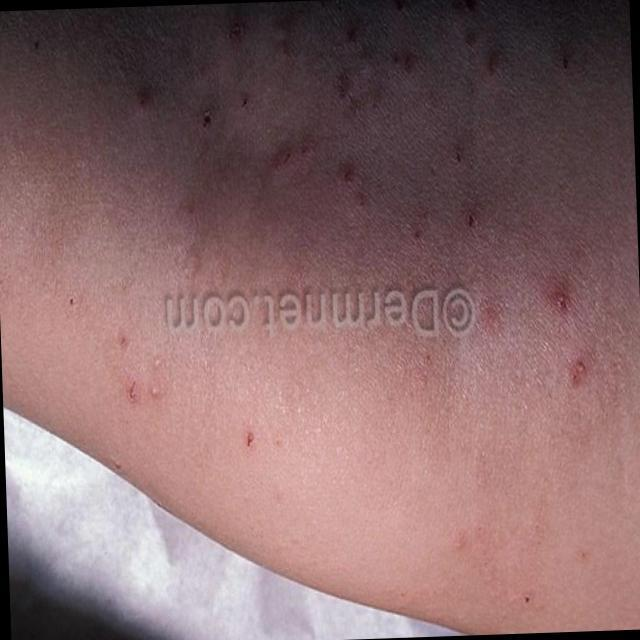Eczema: (95, 6, 624, 417)
